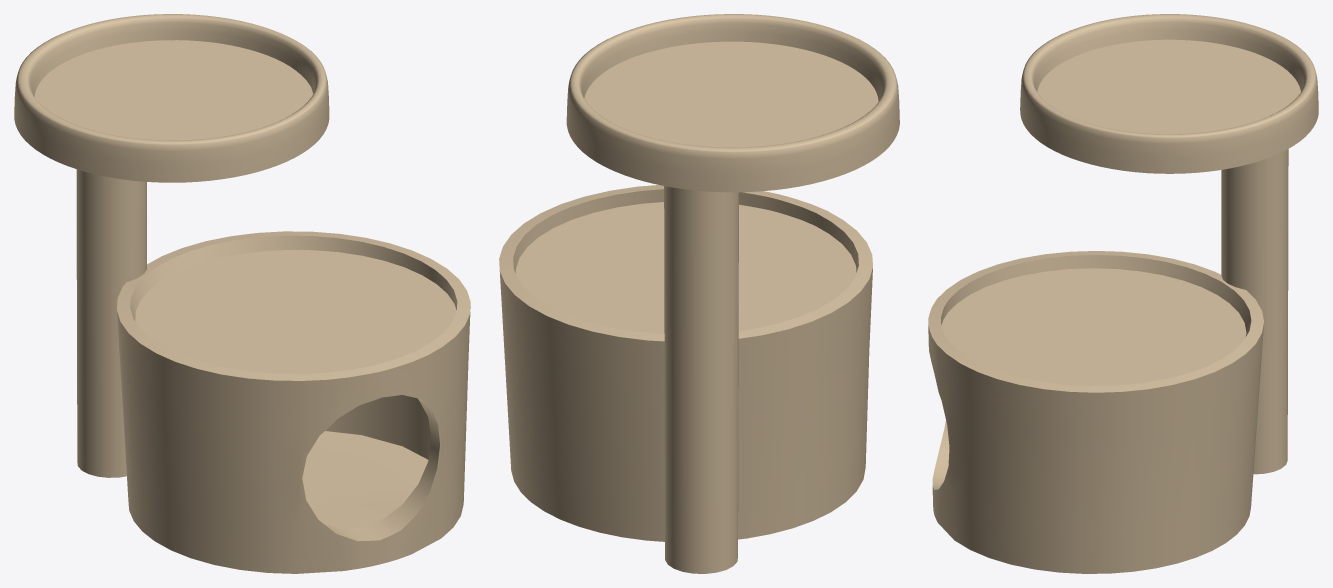
File: SM_CatTower.fbx
3 views of the same model, side by side, from view 1: azimuth 30°, elevation 25°; view 2: azimuth 150°, elevation 25°; view 3: azimuth 270°, elevation 25° (orthographic). The views are drawn at different scales.
Visible parts, largest first — view 1: polySurface197, polySurface199, polySurface198, polySurface186, pCylinder2; view 2: polySurface197, polySurface186, polySurface199, polySurface198; view 3: polySurface197, polySurface199, polySurface198, polySurface186.
Part boxes in pixels (x1,y1,x2,y2): polySurface197: [117, 231, 470, 573]; polySurface199: [14, 14, 329, 182]; polySurface198: [34, 40, 312, 140]; polySurface186: [76, 169, 146, 477]; pCylinder2: [302, 395, 431, 528]; polySurface197: [499, 185, 872, 541]; polySurface186: [664, 186, 738, 573]; polySurface199: [566, 14, 899, 192]; polySurface198: [584, 41, 878, 147]; polySurface197: [928, 251, 1263, 573]; polySurface199: [1020, 14, 1318, 173]; polySurface198: [1037, 39, 1300, 134]; polySurface186: [1221, 149, 1288, 474].
Size of the model in its own units: 98.32 by 105 by 94.03.
1 material, 1 textured.
